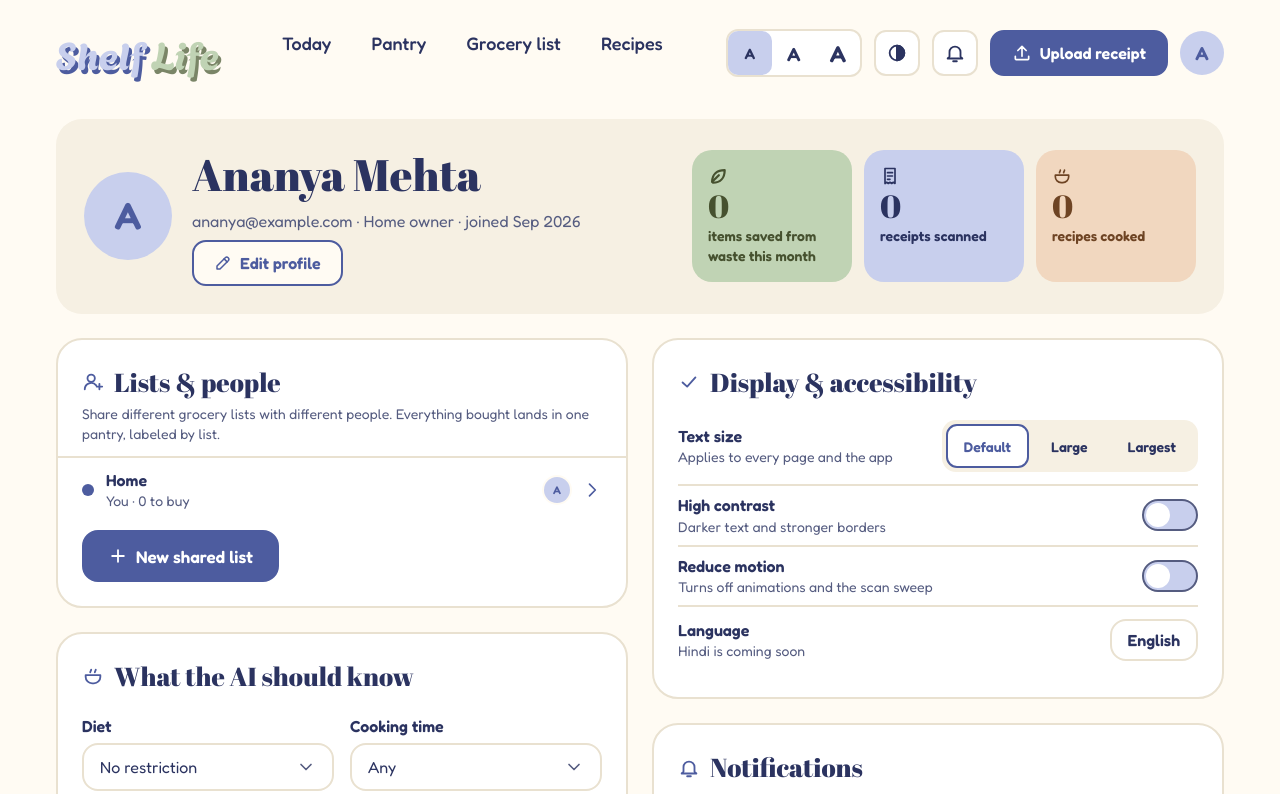
Profile (SRS 6.11) › PRO-1 Edit profile saves the new name
Click the button "Edit profile": (267, 263) [192,240,343,286]
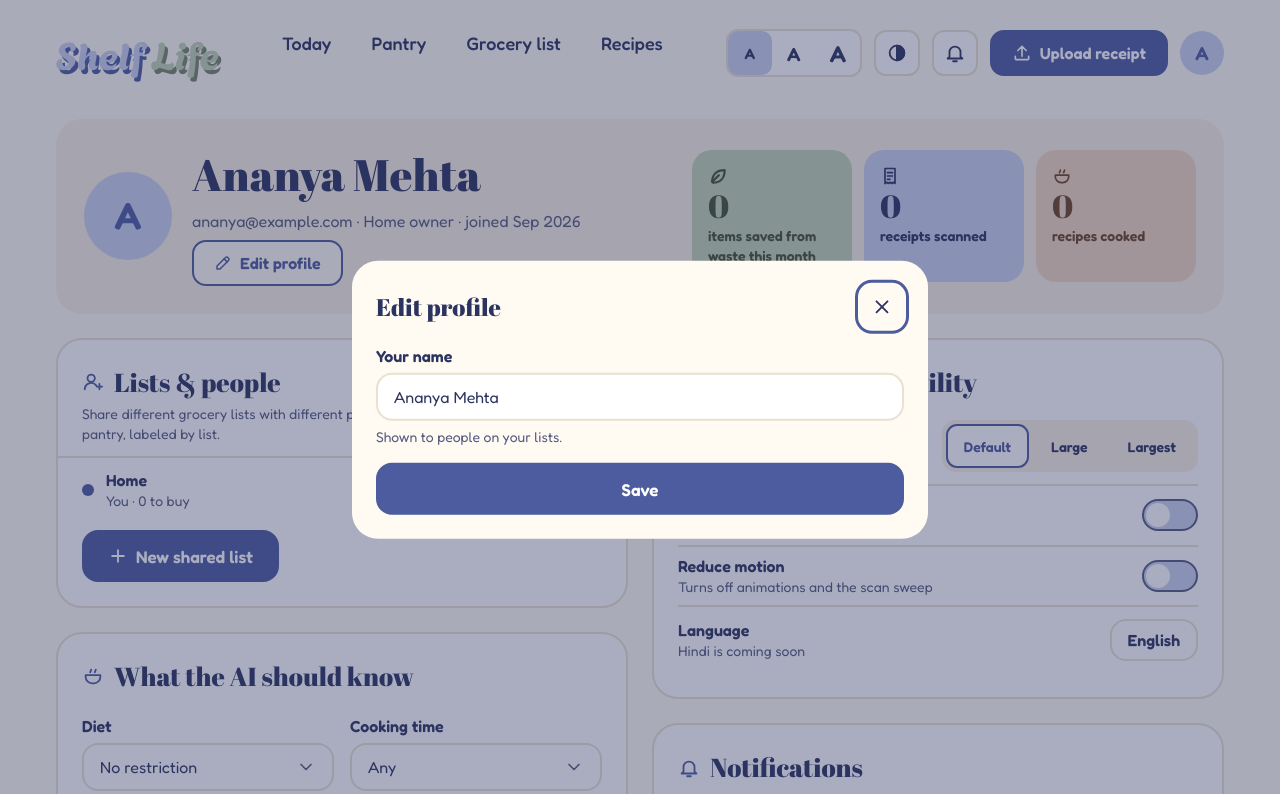
Replace the text in the field labelled "Your name" with "Ananya M": (640, 397) [376,373,904,421]
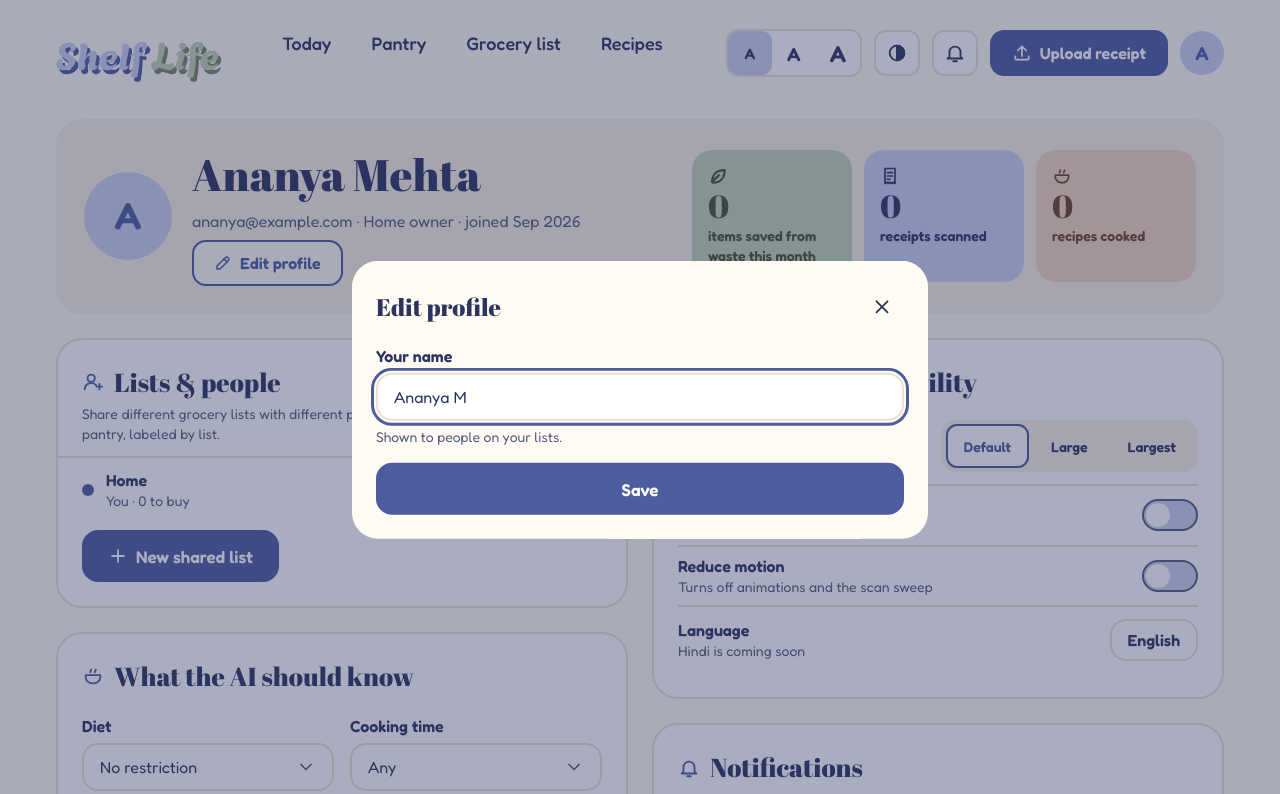
Click the button "Save": (640, 489) [376,463,904,515]
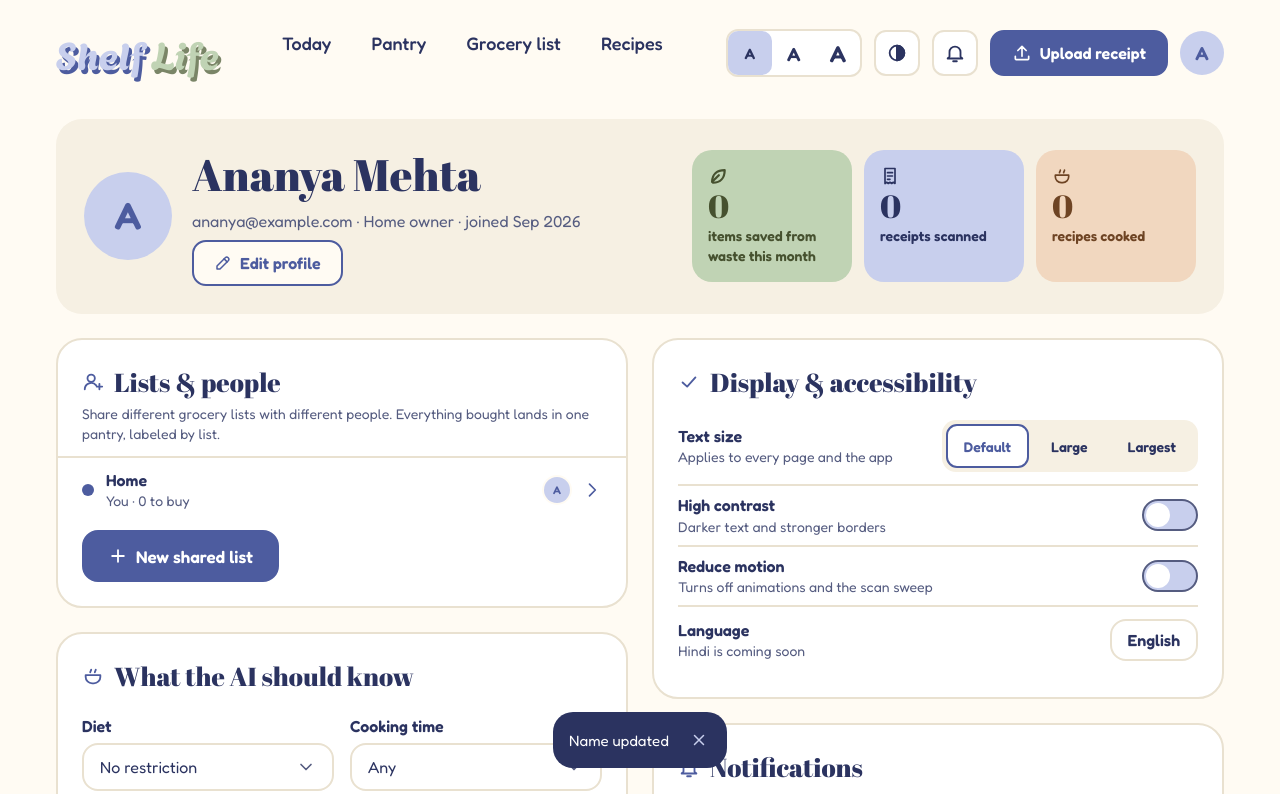
Result: the text "Name updated" is shown at [569,730,669,750]
